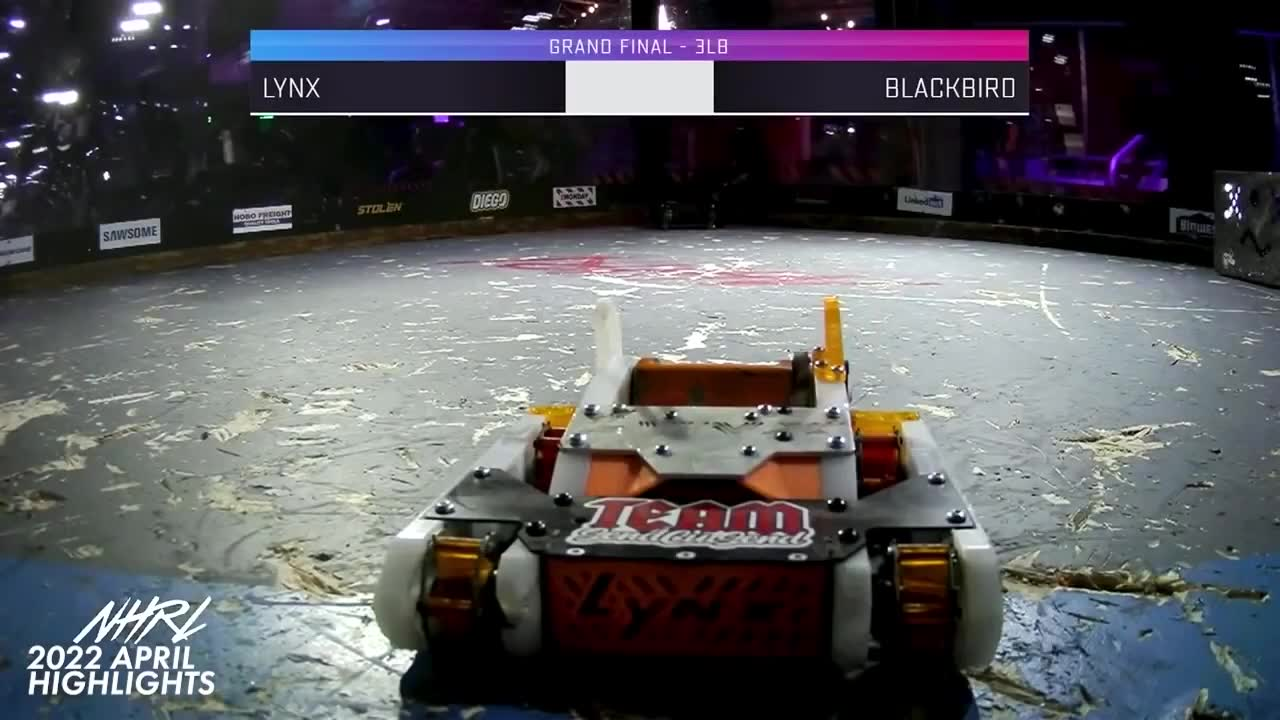combatbot: (371, 362, 1003, 720)
housebot: (1209, 170, 1280, 291)
